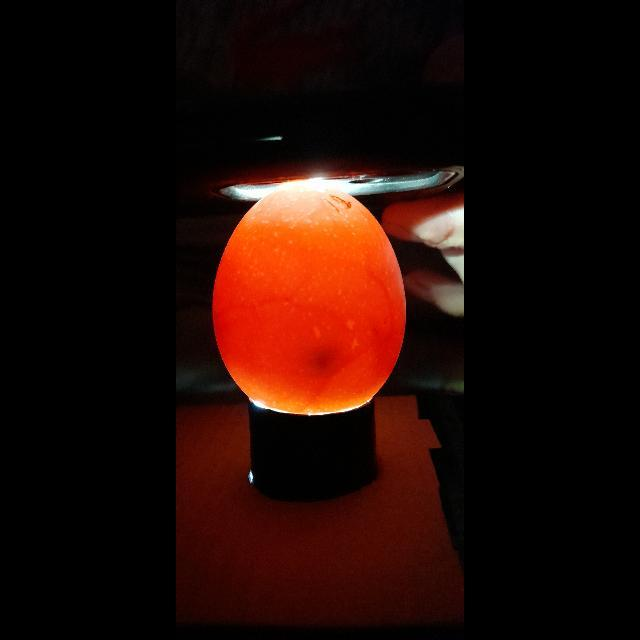Fertile: (205, 182, 412, 418)
